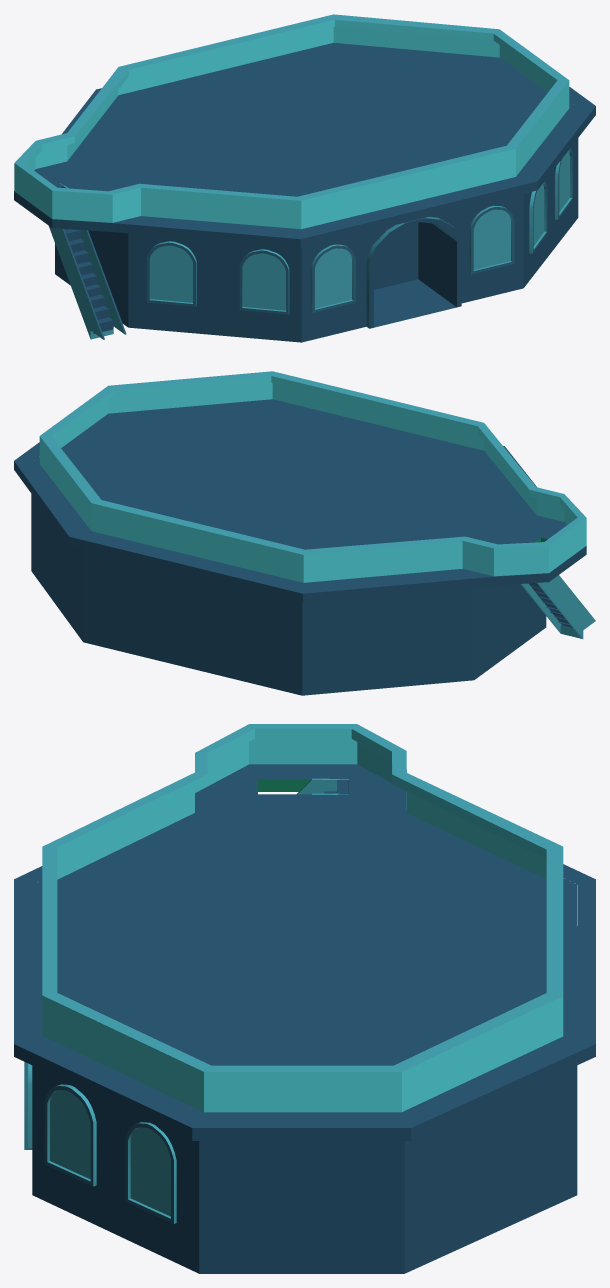
Rendered from Green_Villa_LV1.FBX.
The picture shows the model from 3 angles, top to bottom: view 1: azimuth 30°, elevation 25°; view 2: azimuth 150°, elevation 25°; view 3: azimuth 270°, elevation 25°; orthographic projection. The views are drawn at different scales.
Visible parts, largest first — view 1: Green_Villa; view 2: Green_Villa; view 3: Green_Villa.
Boxes of the visible parts, x1=… form: Green_Villa: x1=14, y1=14, x2=595, y2=342; Green_Villa: x1=14, y1=371, x2=595, y2=695; Green_Villa: x1=14, y1=724, x2=595, y2=1273.
Size of the model in its own units: 35.14 by 9.05 by 23.76.
